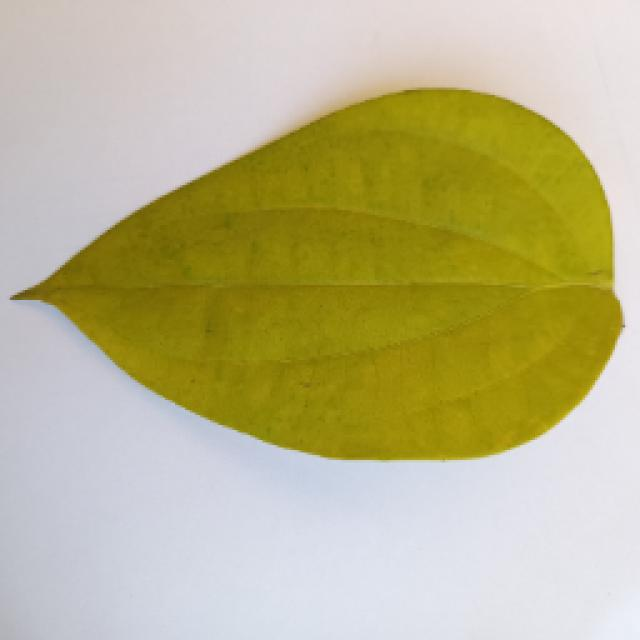slow-decline: (10, 90, 612, 458)
